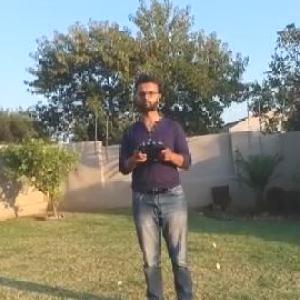follow: (111, 68, 200, 299)
